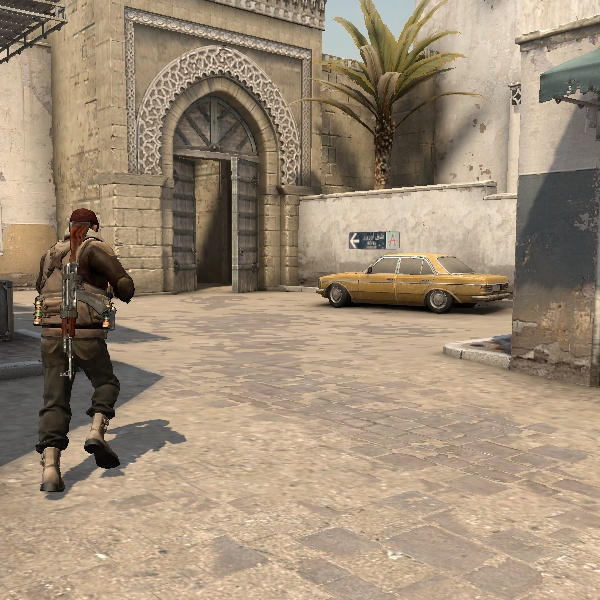t_body: (14, 194, 153, 485)
t_head: (60, 203, 112, 256)
